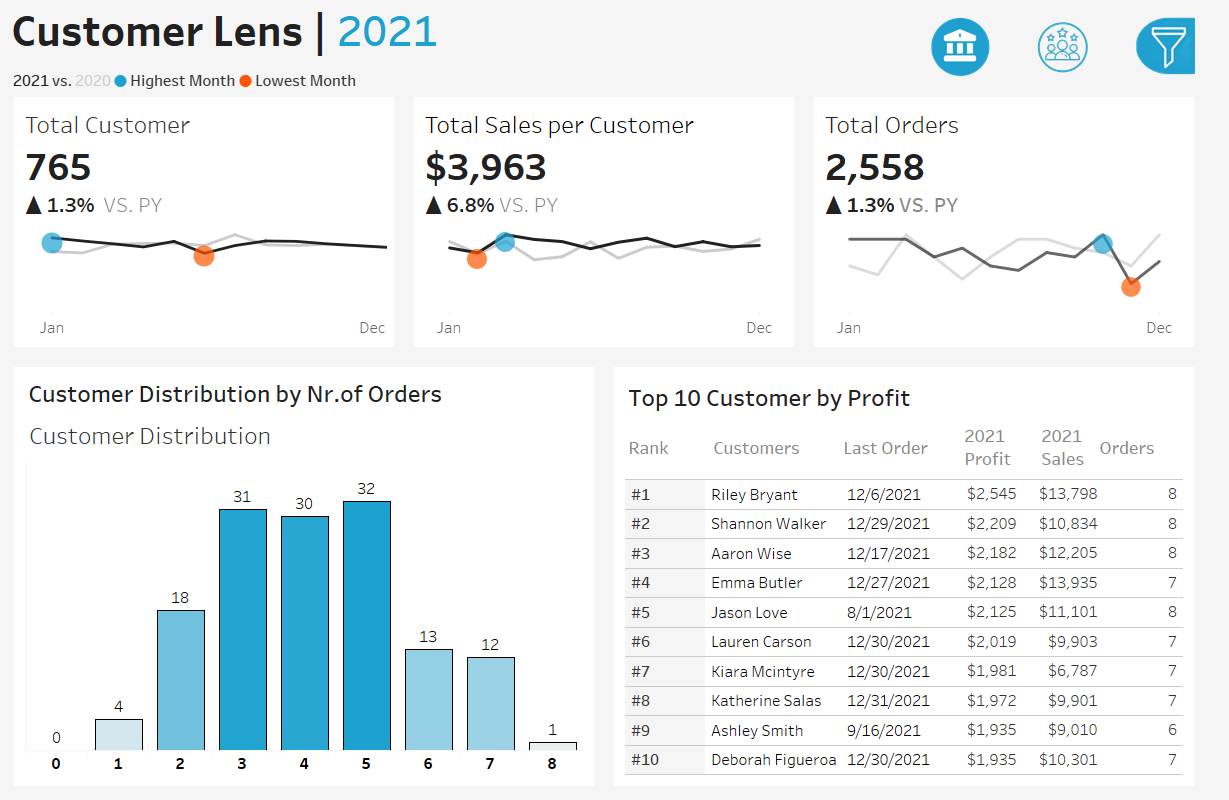

What the dashboard file says about the page in this screenshot:
{"tool":"tableau","page":{"name":"Customer Dashboard","canvas":[1200,800],"ordinal":0},"visuals":[{"type":"text","box":[0,0,1200,66]},{"type":"blank","box":[919,5,275,97]},{"type":"dashboard-object","box":[904,16,103,68]},{"type":"dashboard-object","box":[1007,16,103,68]},{"type":"worksheet","title":"Legend of KPIs","mark":"Automatic","box":[0,68,1200,33]},{"type":"worksheet","title":"KPI Customerr","mark":"Automatic","rows":["Min/Max customer (copy)_819092197102919726"],"cols":["Order Date"],"box":[0,101,400,260]},{"type":"worksheet","title":"KPI CPS","mark":"Automatic","rows":["Calculation_819092197030207507"],"cols":["Order Date"],"box":[400,101,400,260]},{"type":"worksheet","title":"Kpi orders","mark":"Line","rows":["Calculation_819092197040758812"],"cols":["Order Date"],"box":[800,101,400,260]},{"type":"text","box":[919,102,275,40]},{"type":"parameter","param":"[Parameters].[Parameter 1]","box":[919,142,275,56]},{"type":"text","box":[919,198,275,33]},{"type":"filter","title":"KPI CPS","param":"[federated.1hj69ut007kuyh1awictk0ao1p22].[none:Category:nk]","box":[919,231,275,61]},{"type":"filter","title":"KPI CPS","param":"[federated.1hj69ut007kuyh1awictk0ao1p22].[none:Sub-Category:nk]","box":[919,292,275,61]},{"type":"blank","box":[919,353,275,53]},{"type":"text","box":[17,378,566,37]},{"type":"text","box":[617,378,566,45]},{"type":"text","box":[919,406,275,33]},{"type":"worksheet","title":"Customer ditribution","mark":"Bar","rows":["Calculation_819092197054447648"],"cols":["Calculation_819092197053857823"],"box":[17,415,566,368]},{"type":"text","box":[617,423,85,56]},{"type":"text","box":[702,423,130,56]},{"type":"text","box":[832,423,121,56]},{"type":"text","box":[953,423,77,56]},{"type":"text","box":[1030,423,58,56]},{"type":"text","box":[1088,423,95,56]},{"type":"filter","title":"KPI CPS","param":"[federated.1hj69ut007kuyh1awictk0ao1p22].[none:Region:nk]","box":[919,439,275,61]},{"type":"worksheet","title":"TOP 10 customer","mark":"Automatic","rows":["Calculation_819092197065519142","Customer Name","Order Date"],"box":[617,479,566,304]},{"type":"filter","title":"KPI CPS","param":"[federated.1hj69ut007kuyh1awictk0ao1p22].[none:State:nk]","box":[919,500,275,61]},{"type":"filter","title":"KPI CPS","param":"[federated.1hj69ut007kuyh1awictk0ao1p22].[none:City:nk]","box":[919,561,275,61]}]}

Visuals, with their boxes in screenshot pixels (x1, y1, x2, y2), scaled from the page's 1200x800 canvas onto the 1229x800 screenshot:
text: (0,0,1228,66)
blank: (941,5,1223,102)
dashboard-object: (926,16,1031,84)
dashboard-object: (1031,16,1137,84)
"Legend of KPIs" worksheet: (0,68,1228,101)
"KPI Customerr" worksheet: (0,101,410,361)
"KPI CPS" worksheet: (410,101,819,361)
"Kpi orders" worksheet (Line marks): (819,101,1228,361)
text: (941,102,1223,142)
parameter: (941,142,1223,198)
text: (941,198,1223,231)
"KPI CPS" filter: (941,231,1223,292)
"KPI CPS" filter: (941,292,1223,353)
blank: (941,353,1223,406)
text: (17,378,597,415)
text: (632,378,1212,423)
text: (941,406,1223,439)
"Customer ditribution" worksheet (Bar marks): (17,415,597,783)
text: (632,423,719,479)
text: (719,423,852,479)
text: (852,423,976,479)
text: (976,423,1055,479)
text: (1055,423,1114,479)
text: (1114,423,1212,479)
"KPI CPS" filter: (941,439,1223,500)
"TOP 10 customer" worksheet: (632,479,1212,783)
"KPI CPS" filter: (941,500,1223,561)
"KPI CPS" filter: (941,561,1223,622)
